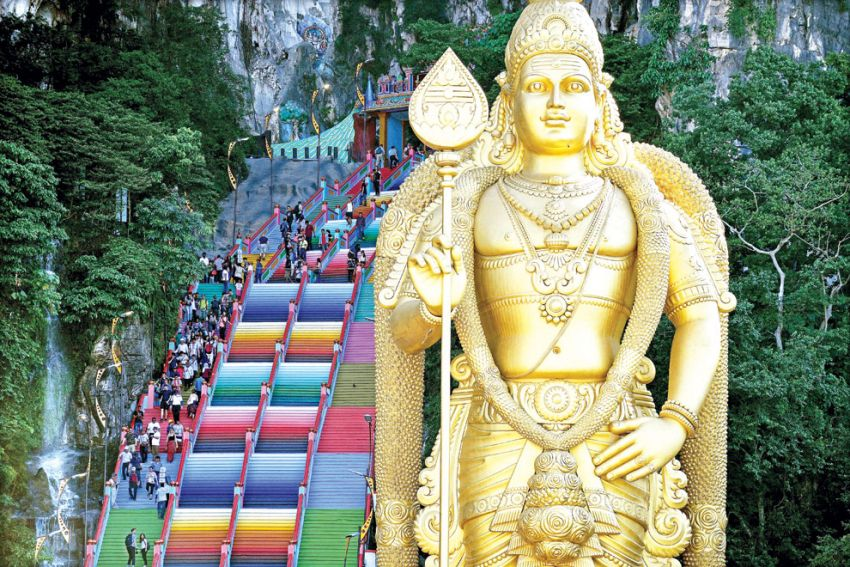Hindu Temple: (364, 4, 739, 567)
